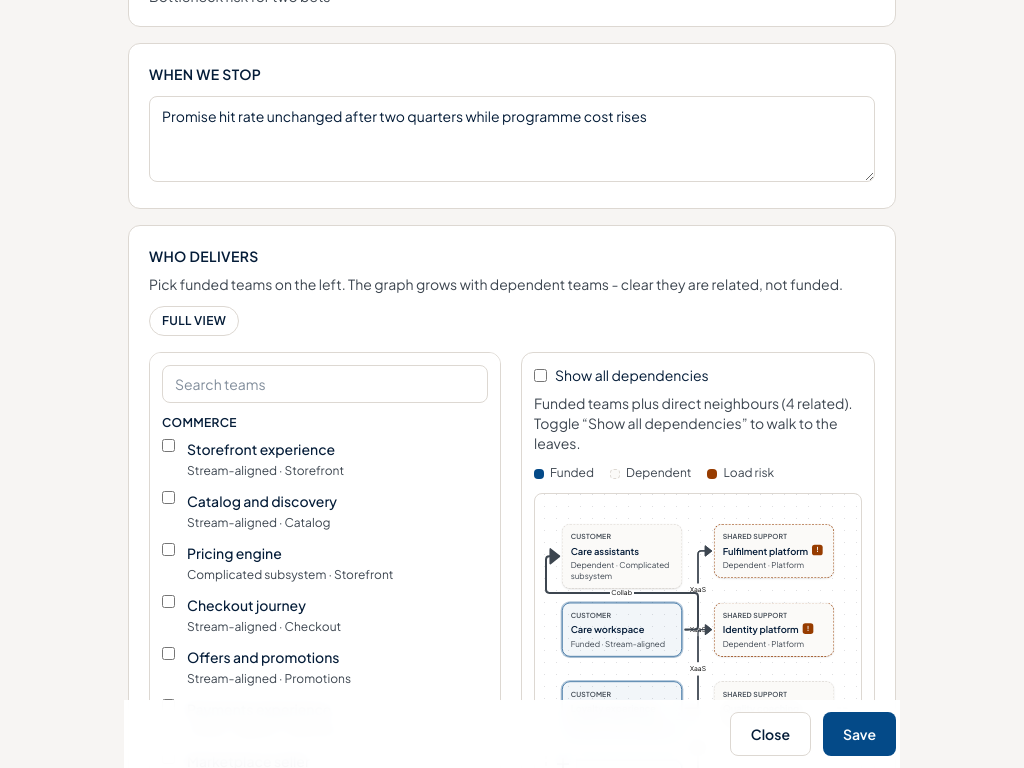
Test: BetDetailView › shows goal MoS context and saves edits into the session
(page scrolled)
Expected: the text box named "Kill criteria" is shown, [149,96,875,182]
In the search field with test id "bet-who-delivers-search" showing "Search teams": coordinates (325, 384) [162,365,488,403], type "care workspace"
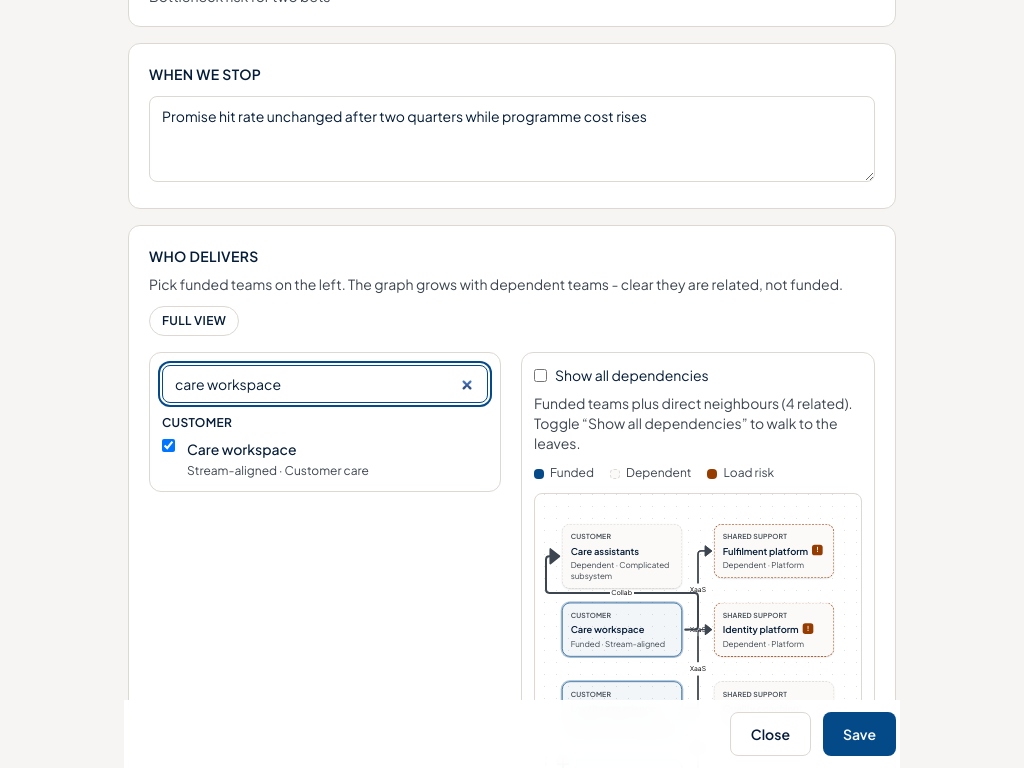
Result: the checkbox named "Fund Care workspace" is shown at [162,439,175,452]
Clear the 1st search field with test id "bet-who-delivers-search": coordinates (325, 384) [162,365,488,403]
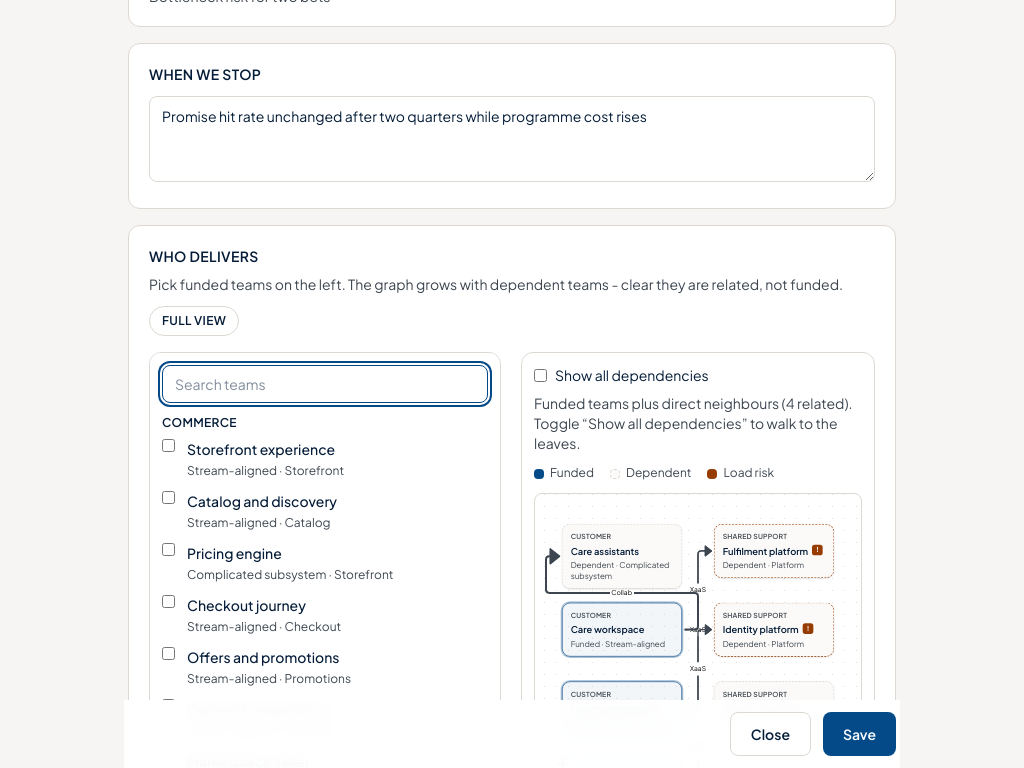
Click the checkbox with test id "bet-who-delivers-all-deps" showing "Show all dependencies": coordinates (540, 375) [534,369,547,382]
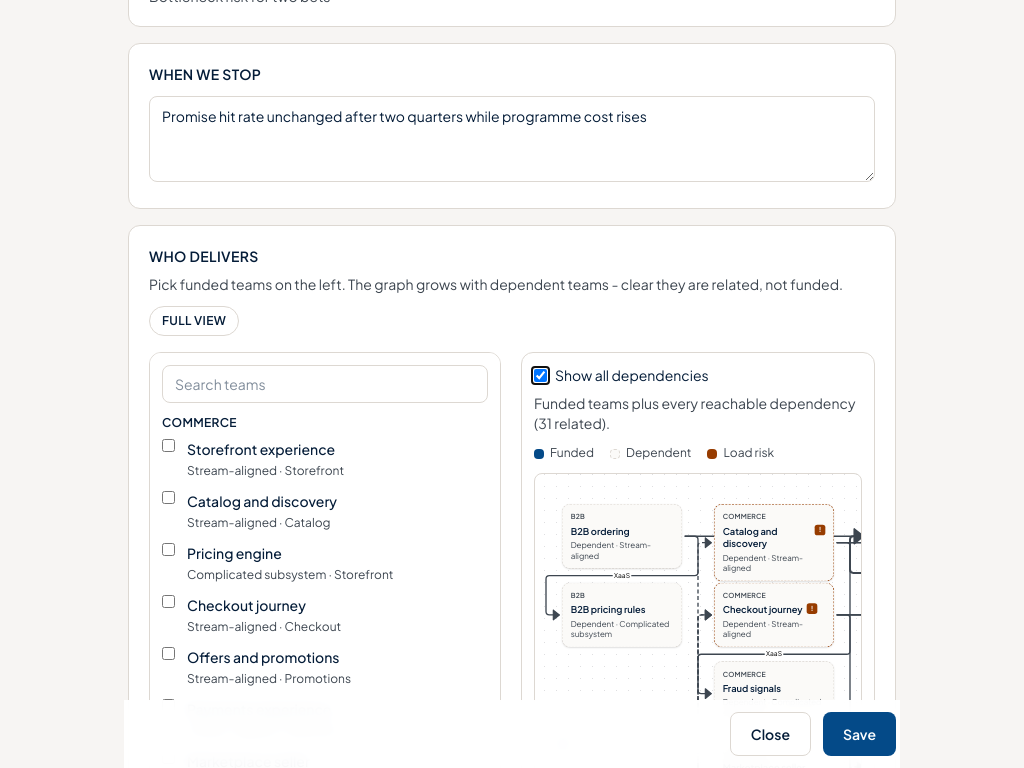
Click the button with test id "bet-who-delivers-expand": coordinates (194, 321) [149,306,239,336]
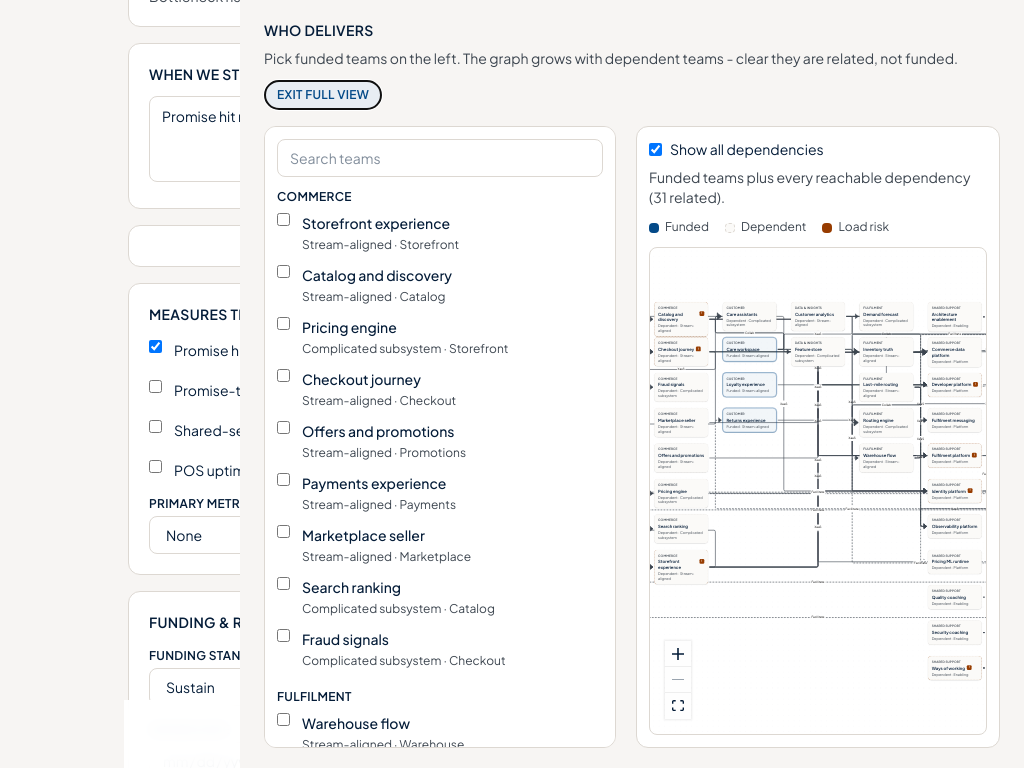
Result: the element with test id "bet-who-delivers" has attribute data-expanded="true"
Click the button with test id "bet-who-delivers-expand": coordinates (323, 95) [264,80,382,110]
(page scrolled)
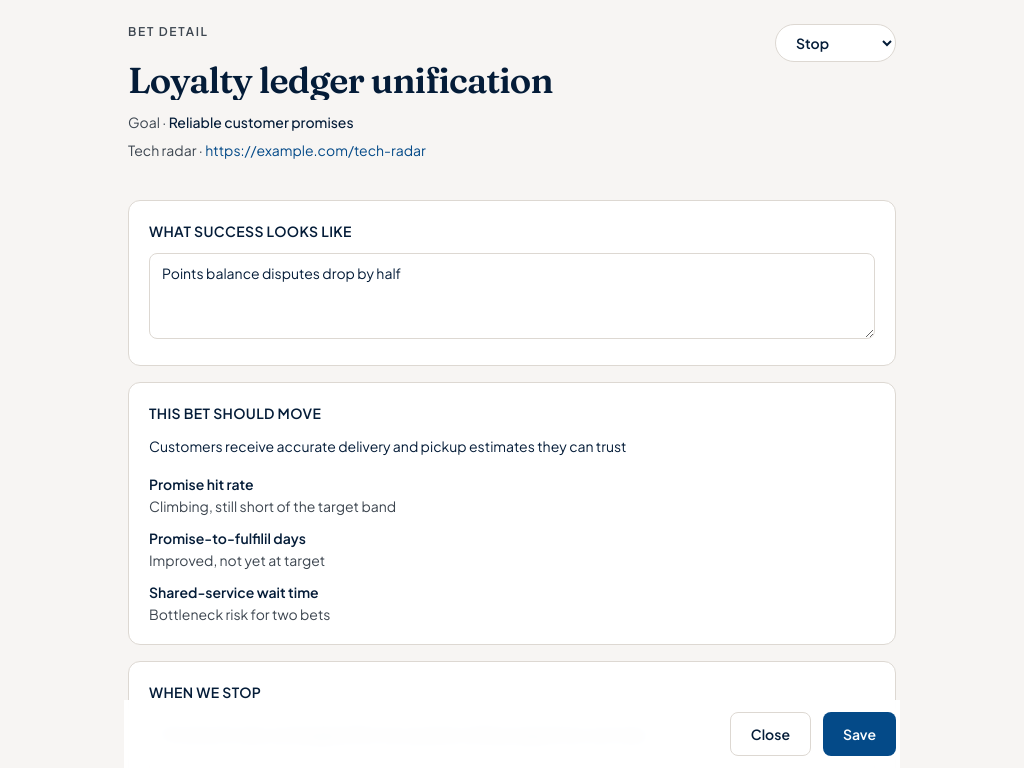
Replace the text in the field named "Bet title" with "Loyalty ledger pause": coordinates (360, 80) [128,60,592,100]
Click the button "Save": coordinates (860, 734) [823,712,896,756]
(page scrolled)
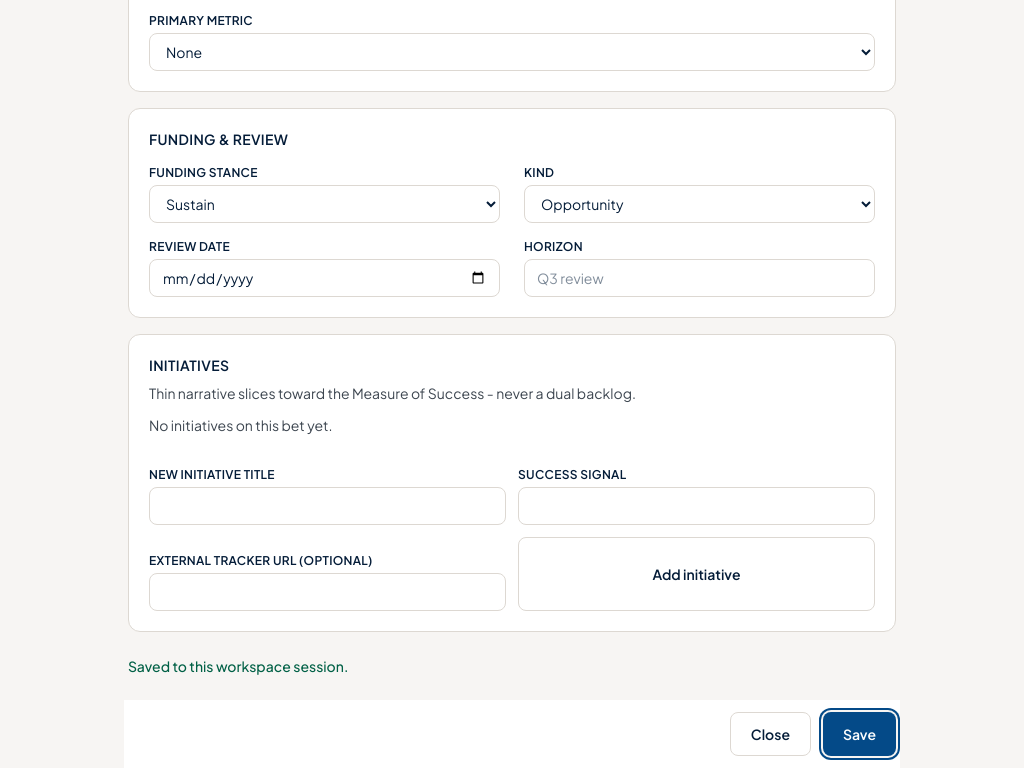
Result: the text "Saved to this workspace session." is shown at [128,657,348,675]
